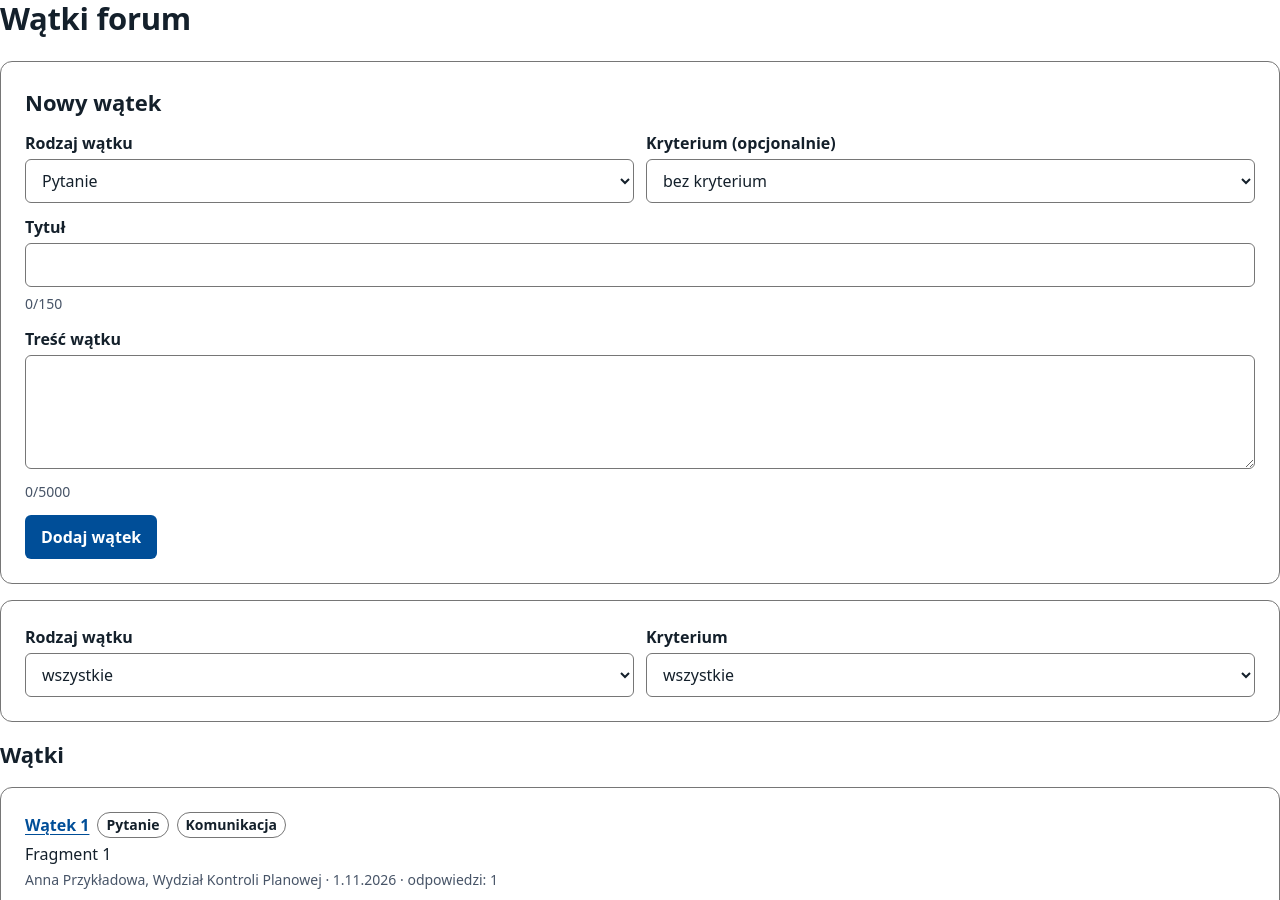
Test: new thread › shows the server's message when creating fails
In the field labelled "Tytuł": (640, 265) [25,243,1255,287], type "Tytuł"
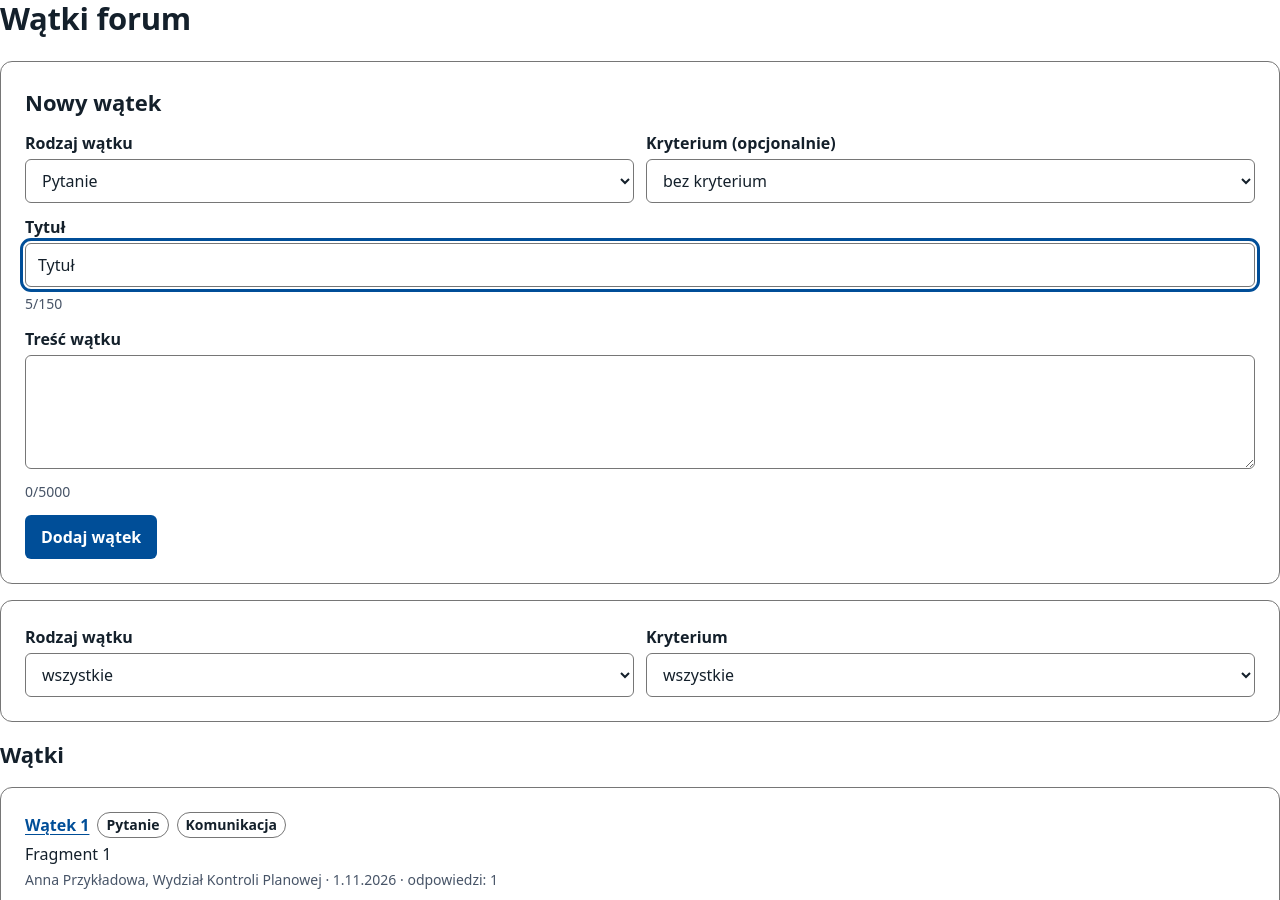
In the text box labelled "Treść wątku": (640, 412) [25,355,1255,469], type "Treść"
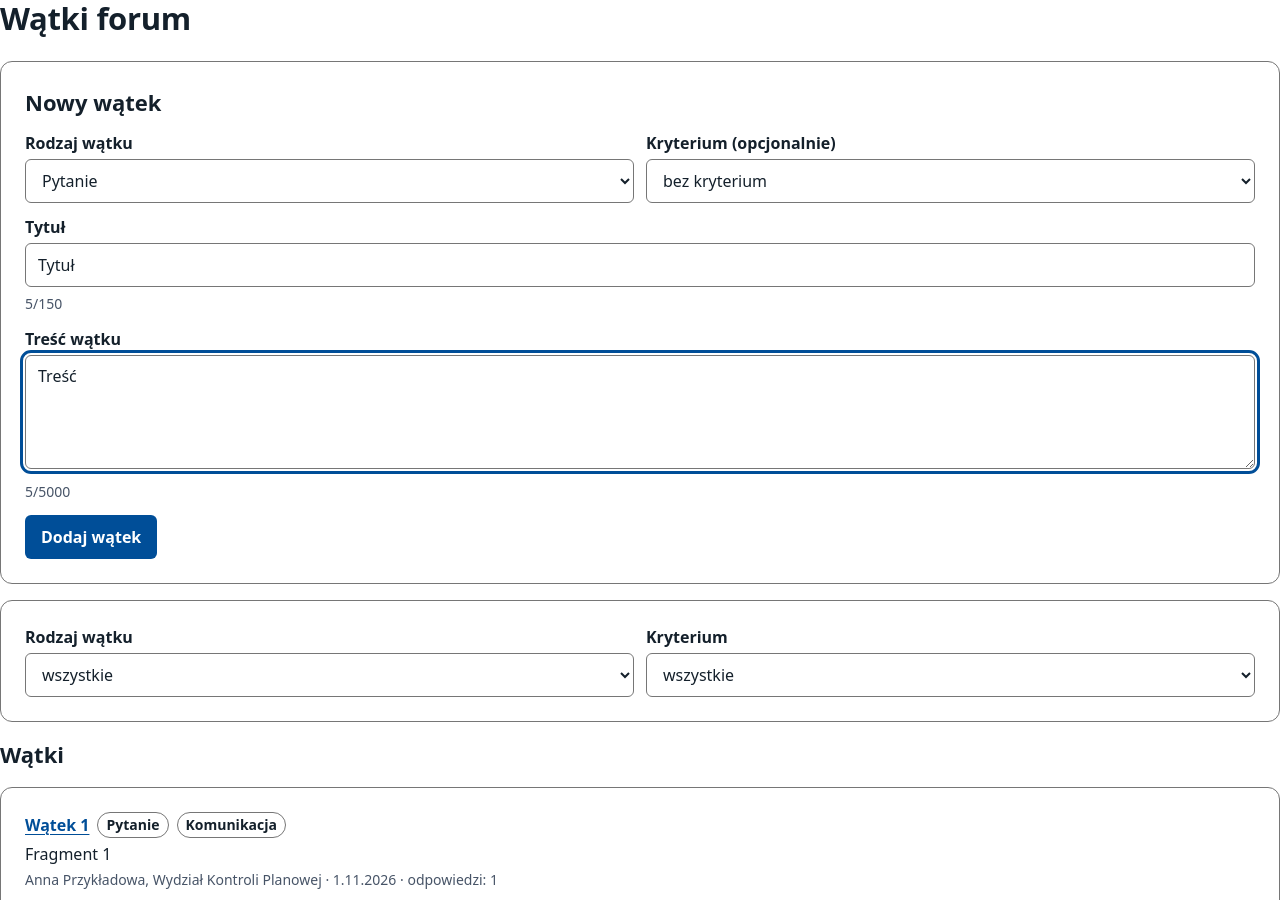
Click the button "Dodaj wątek": (91, 537) [25,515,157,559]
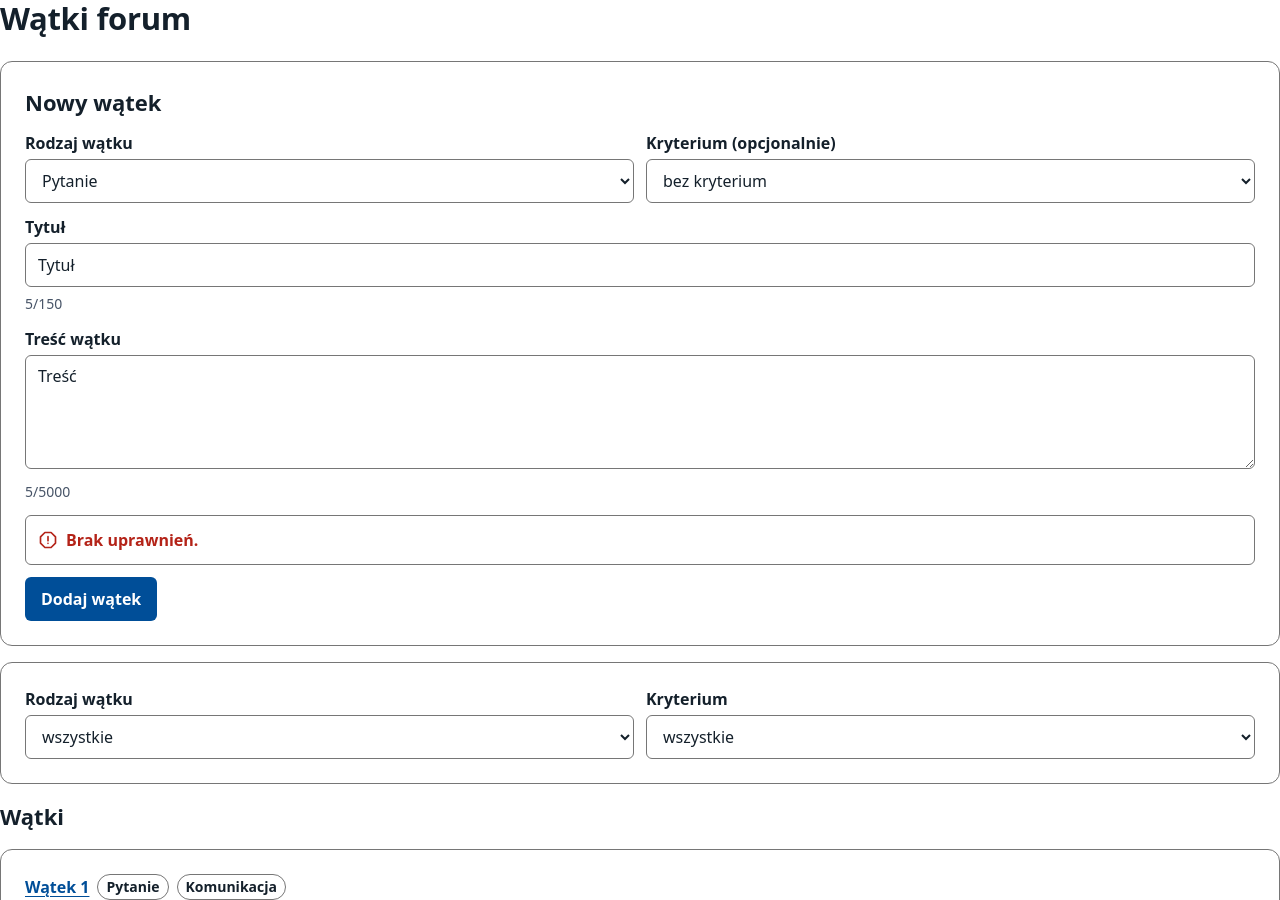
Expected: the message reads "Brak uprawnień.", [66,529,198,551]
